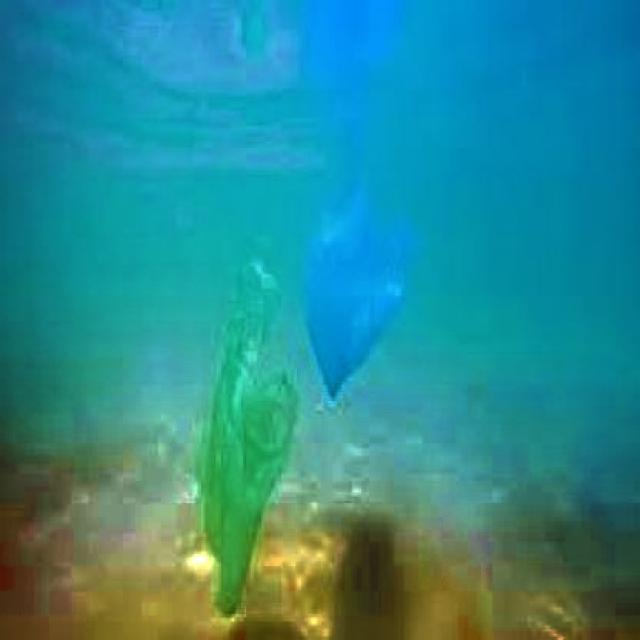pbag: (198, 248, 302, 622), (292, 178, 411, 404)
